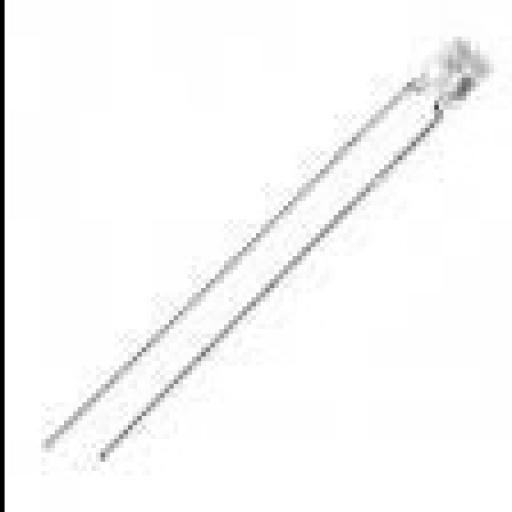LED: (89, 12, 512, 458)
